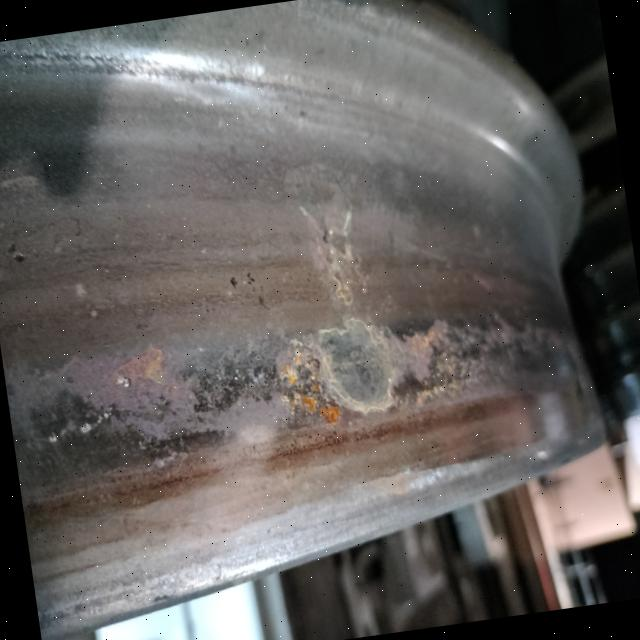flat: (5, 293, 577, 473)
